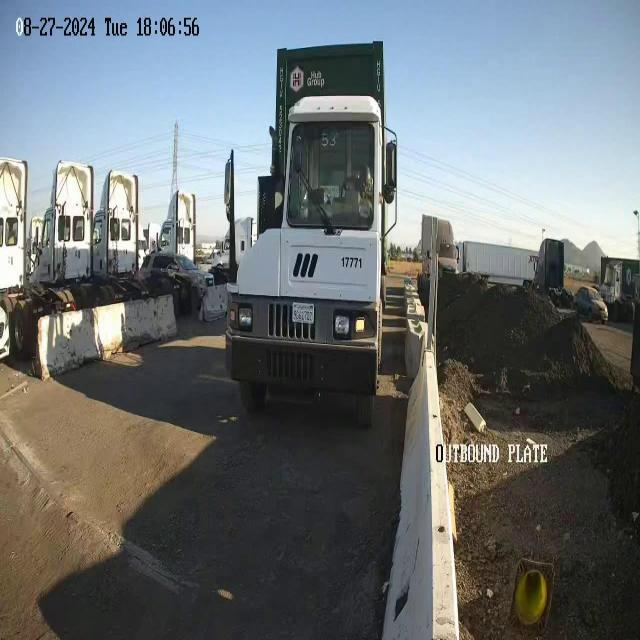TRUCK_CONTAINER: (223, 40, 398, 428)
